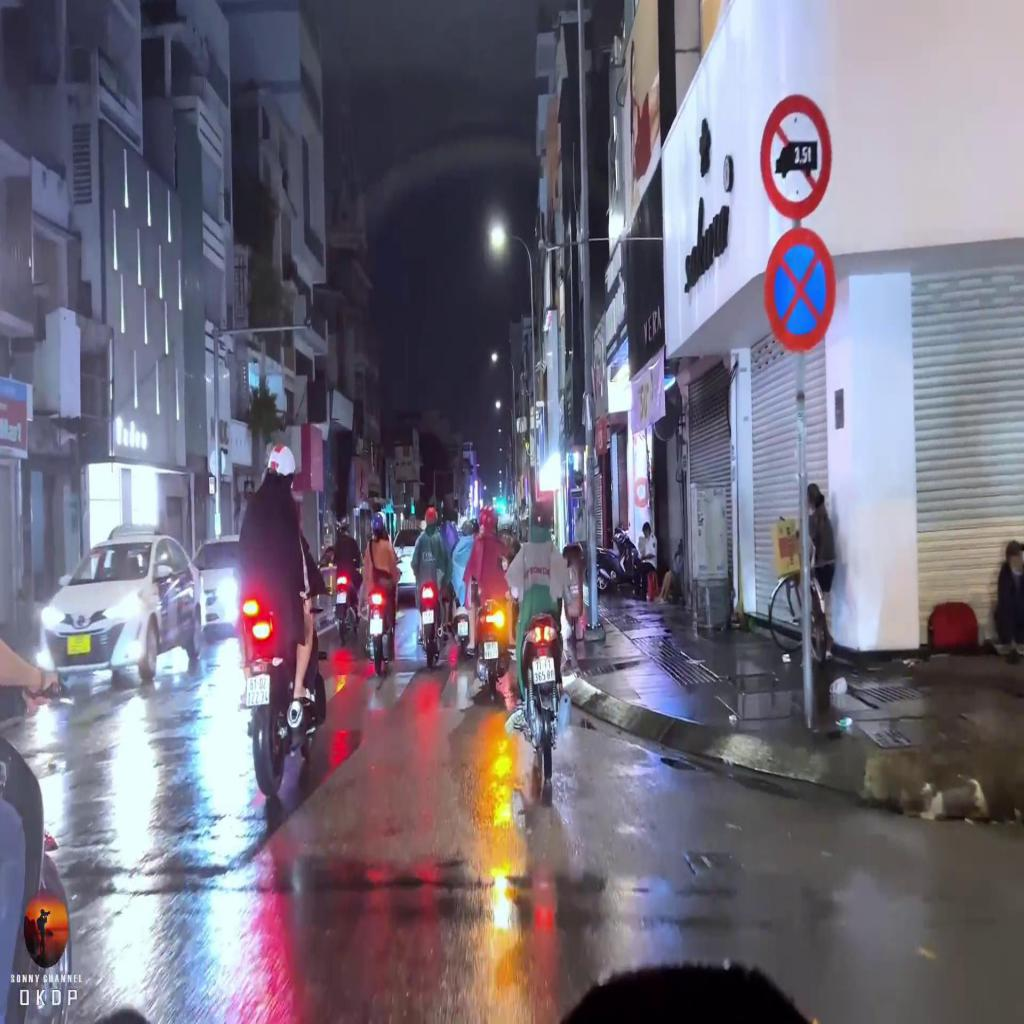cam_dung_xe_va_do_xe: (763, 226, 838, 358)
cam_o_to_tai: (758, 85, 832, 219)
